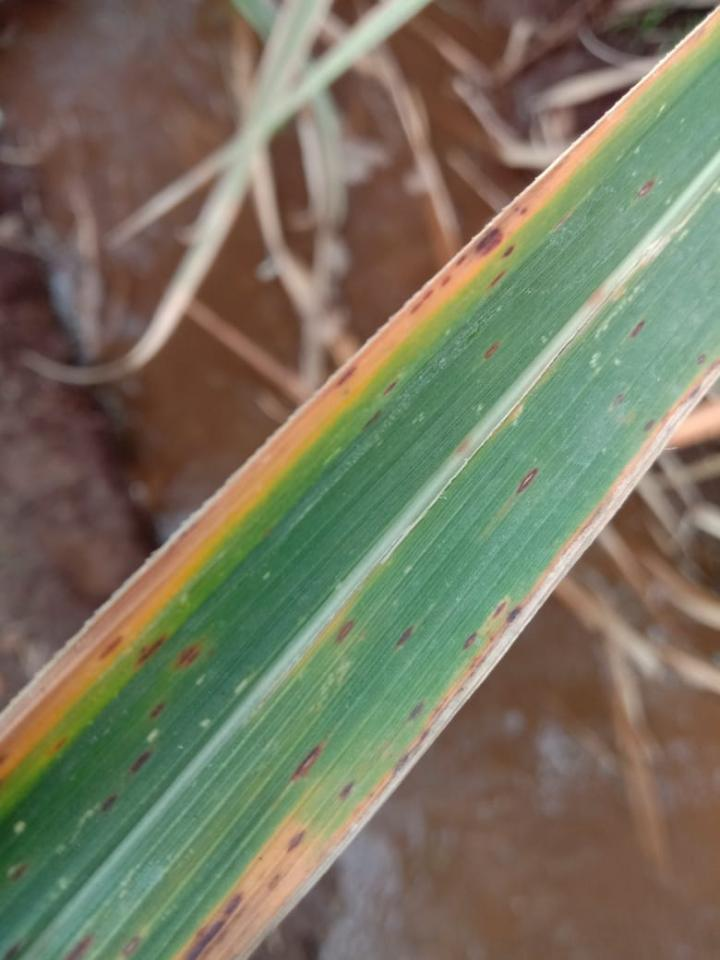RedRot: (580, 282, 613, 319)
Rust: (165, 589, 528, 959), (83, 619, 222, 825), (399, 195, 532, 328), (349, 365, 405, 439), (57, 920, 154, 959), (4, 850, 37, 900), (504, 461, 542, 504), (392, 613, 421, 664), (329, 608, 361, 651), (38, 728, 77, 761), (617, 310, 652, 345), (327, 360, 361, 393), (630, 171, 664, 204), (470, 334, 501, 368), (0, 933, 39, 959), (692, 337, 715, 374), (638, 411, 661, 442), (450, 430, 473, 460)
Yellow: (0, 0, 719, 790), (49, 570, 538, 959)
